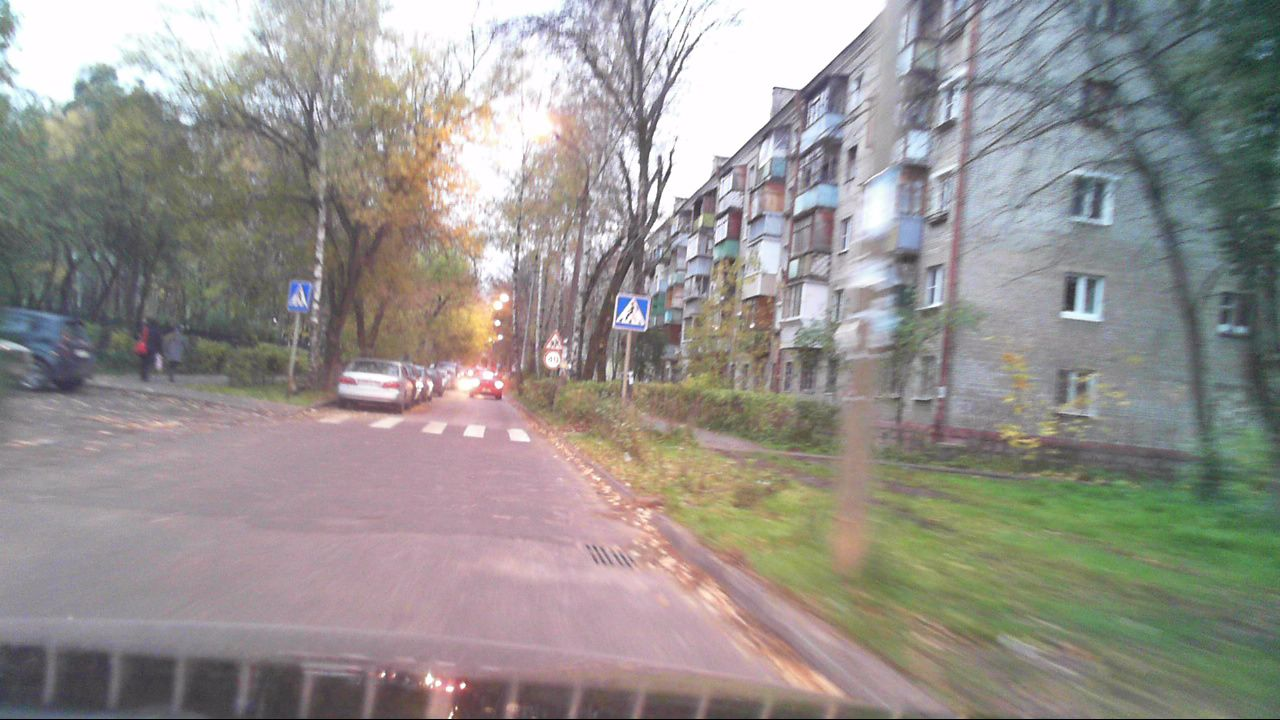speed_warning_40: (543, 351, 560, 368)
